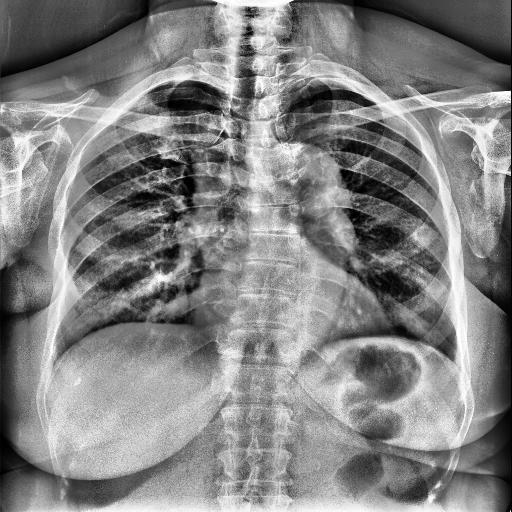0- Aortic enlargement: (254, 139, 348, 224), (260, 142, 352, 222), (260, 142, 348, 219)
